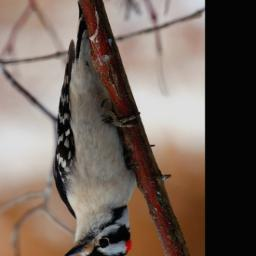Woodpecker: (54, 0, 142, 256)
